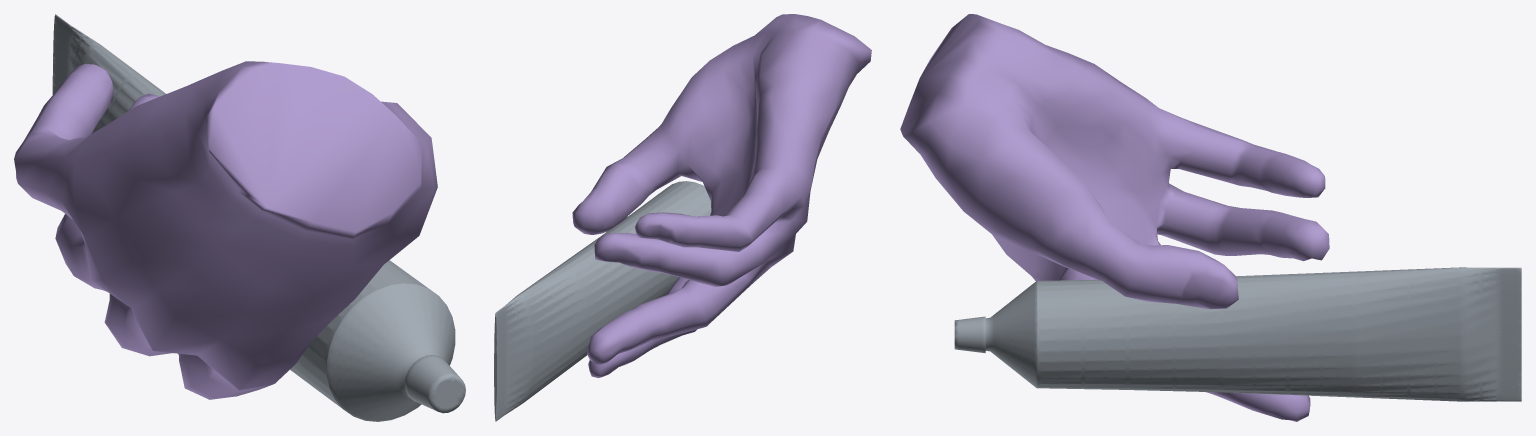
File: grasp_2.glb
The picture shows the model from 3 angles, left to right: view 1: azimuth 30°, elevation 25°; view 2: azimuth 150°, elevation 25°; view 3: azimuth 270°, elevation 25°; orthographic projection. The views are drawn at different scales.
Size of the model in its own units: 0.0997 by 0.1369 by 0.2214.
